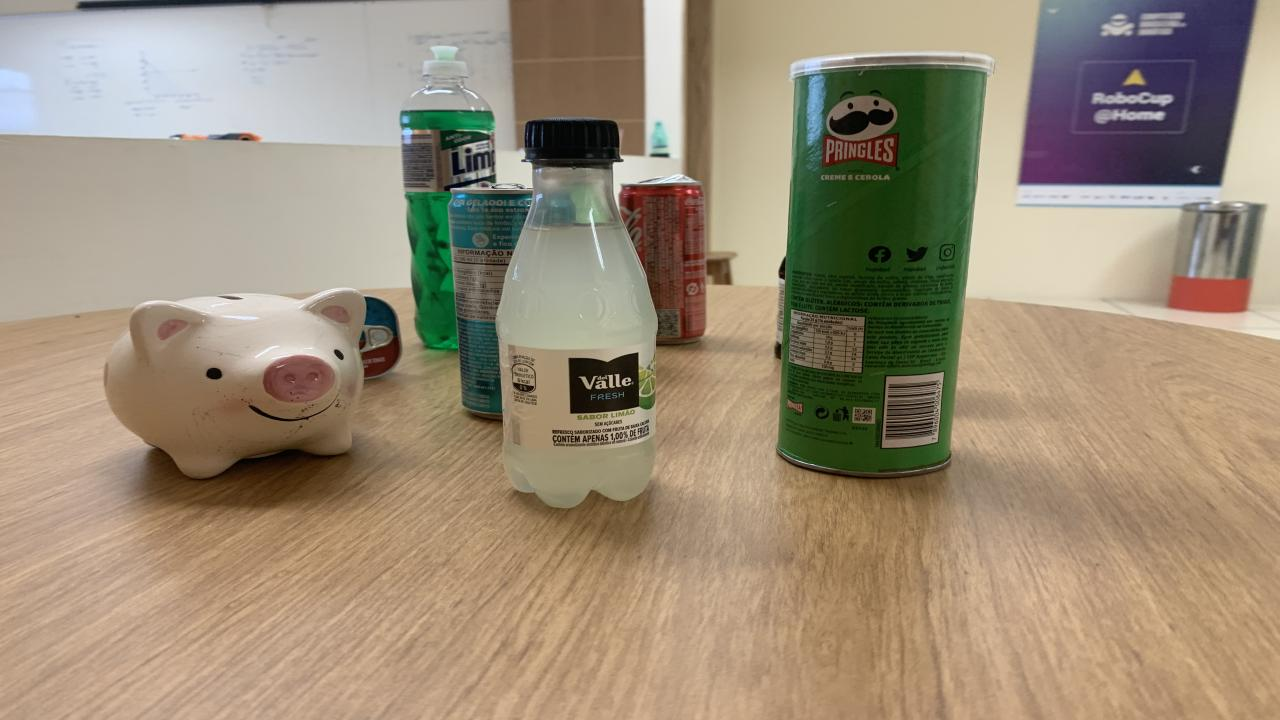Coke-Drinks: (620, 174, 708, 343)
Detergent-Cleanup_Items: (400, 47, 495, 349)
Pig_Safe-Miscellaneous: (105, 289, 365, 478)
Pringles-Snacks: (778, 52, 992, 476)
Soda-Drinks: (495, 118, 658, 508)
Tea-Drinks: (448, 186, 532, 418)
Tuna_Can-Pantry_Items: (360, 296, 402, 379)
